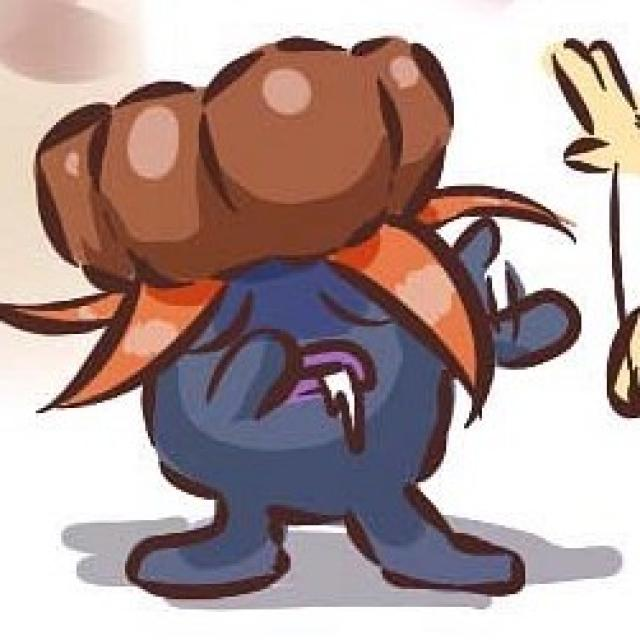Gloom: (39, 29, 522, 597)
